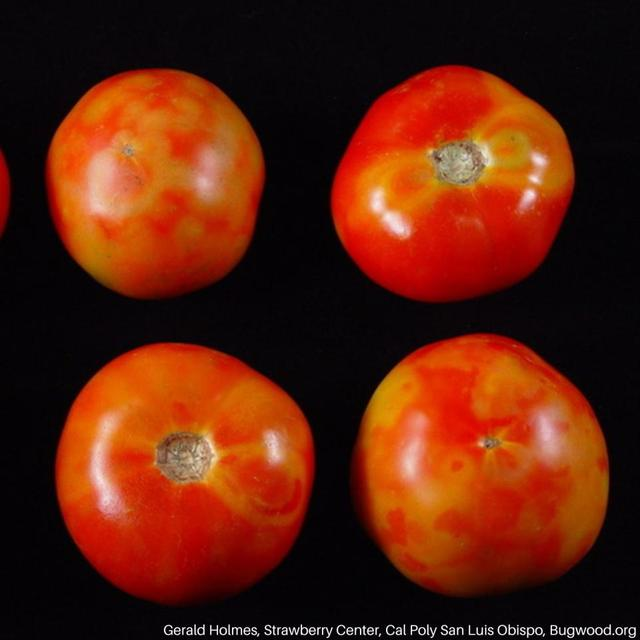Spotted wilt Virus Fruit: (104, 122, 320, 316)
